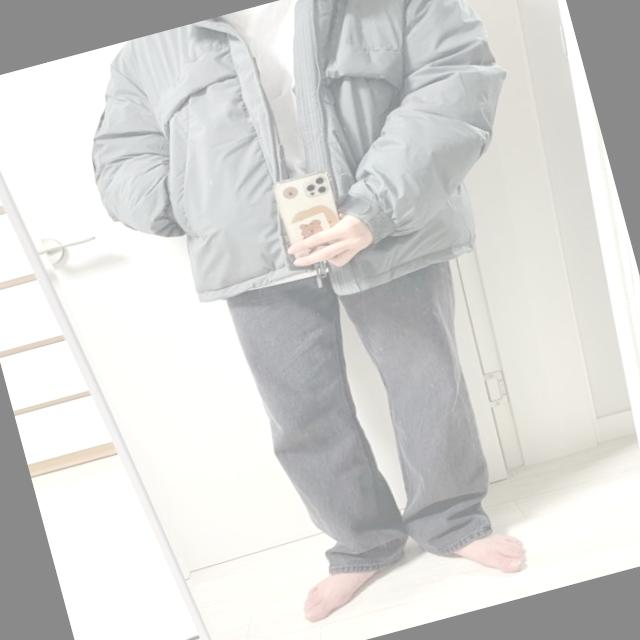denimpants: (212, 214, 533, 600)
padding: (63, 0, 551, 349)
